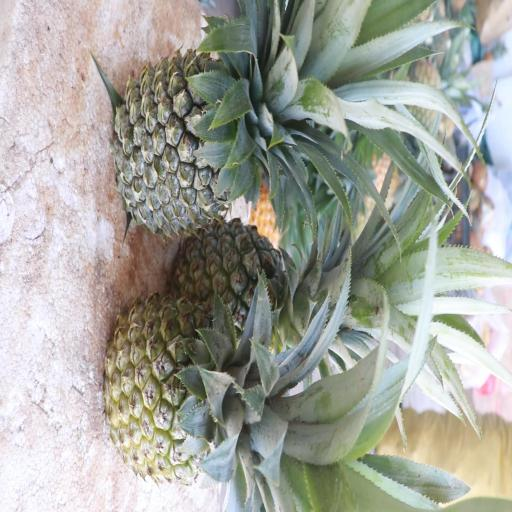------------------------------: (100, 289, 336, 494), (173, 216, 361, 356)
